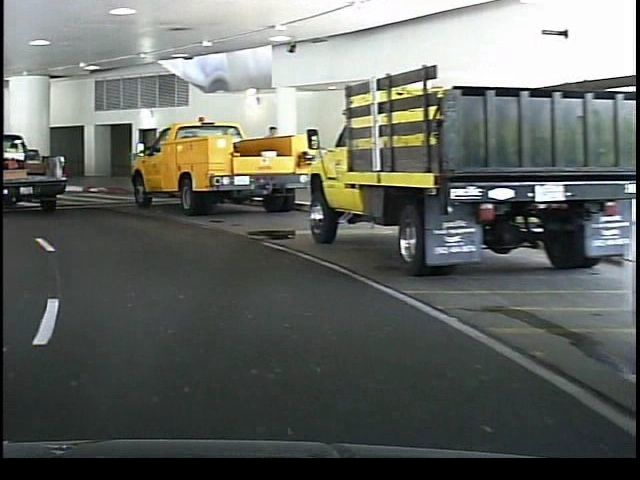person: (258, 122, 282, 198)
